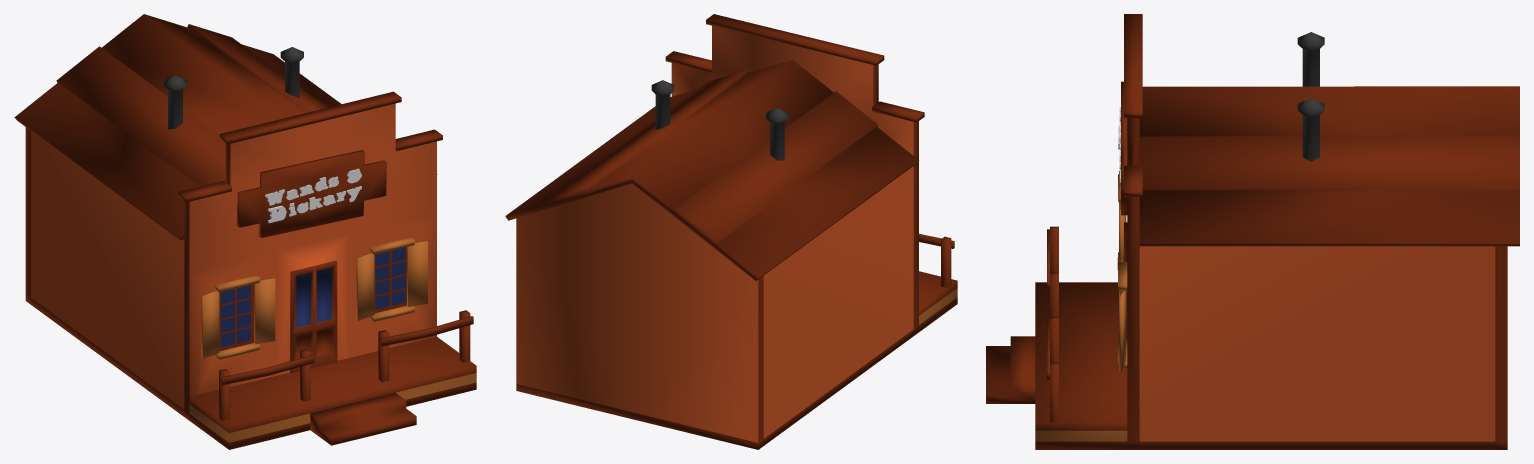
Rendered from Western_Wands&Dickary_Parts.fbx.
The picture shows the model from 3 angles, left to right: view 1: azimuth 30°, elevation 25°; view 2: azimuth 150°, elevation 25°; view 3: azimuth 270°, elevation 25°; orthographic projection. The views are drawn at different scales.
Parts seen in each view (by area): view 1: WesternBuilding_Shop_Wands.Parts.024, WesternBuilding_Shop_Wands.Parts.006, WesternBuilding_Shop_Wands.Parts.002, WesternBuilding_Shop_Wands.Parts.009, WesternBuilding_Shop_Wands.Parts.001, WesternBuilding_Shop_Wands.Parts.007, WesternBuilding_Shop_Wands.Parts.016, WesternBuilding_Shop_Wands.Parts.023, WesternBuilding_Shop_Wands.Parts.018, WesternBuilding_Shop_Wands.Parts.021, WesternBuilding_Shop_Wands.Parts.014, WesternBuilding_Shop_Wands.Parts.012 (+8 smaller); view 2: WesternBuilding_Shop_Wands.Parts.006, WesternBuilding_Shop_Wands.Parts.002, WesternBuilding_Shop_Wands.Parts.024, WesternBuilding_Shop_Wands.Parts.001, WesternBuilding_Shop_Wands.Parts.007, WesternBuilding_Shop_Wands.Parts.003, WesternBuilding_Shop_Wands.Parts.004, WesternBuilding_Shop_Wands.Parts.005, WesternBuilding_Shop_Wands.Parts.008, WesternBuilding_Shop_Wands.Parts.013; view 3: WesternBuilding_Shop_Wands.Parts.006, WesternBuilding_Shop_Wands.Parts.001, WesternBuilding_Shop_Wands.Parts.024, WesternBuilding_Shop_Wands.Parts.007, WesternBuilding_Shop_Wands.Parts.004, WesternBuilding_Shop_Wands.Parts.003, WesternBuilding_Shop_Wands.Parts.009, WesternBuilding_Shop_Wands.Parts.023, WesternBuilding_Shop_Wands.Parts.008, WesternBuilding_Shop_Wands.Parts.015.
Part boxes in pixels (bbox=[...]): WesternBuilding_Shop_Wands.Parts.024: bbox=[184, 103, 476, 449]; WesternBuilding_Shop_Wands.Parts.006: bbox=[25, 127, 184, 416]; WesternBuilding_Shop_Wands.Parts.002: bbox=[14, 14, 284, 240]; WesternBuilding_Shop_Wands.Parts.009: bbox=[237, 150, 386, 237]; WesternBuilding_Shop_Wands.Parts.001: bbox=[144, 14, 437, 174]; WesternBuilding_Shop_Wands.Parts.007: bbox=[219, 91, 401, 144]; WesternBuilding_Shop_Wands.Parts.016: bbox=[254, 277, 275, 343]; WesternBuilding_Shop_Wands.Parts.023: bbox=[407, 240, 427, 306]; WesternBuilding_Shop_Wands.Parts.018: bbox=[201, 290, 219, 358]; WesternBuilding_Shop_Wands.Parts.021: bbox=[356, 252, 374, 320]; WesternBuilding_Shop_Wands.Parts.014: bbox=[380, 316, 473, 346]; WesternBuilding_Shop_Wands.Parts.012: bbox=[221, 355, 313, 385]; WesternBuilding_Shop_Wands.Parts.006: bbox=[516, 166, 913, 449]; WesternBuilding_Shop_Wands.Parts.002: bbox=[632, 60, 919, 280]; WesternBuilding_Shop_Wands.Parts.024: bbox=[671, 25, 957, 335]; WesternBuilding_Shop_Wands.Parts.001: bbox=[505, 60, 791, 220]; WesternBuilding_Shop_Wands.Parts.007: bbox=[706, 14, 884, 65]; WesternBuilding_Shop_Wands.Parts.003: bbox=[766, 108, 788, 160]; WesternBuilding_Shop_Wands.Parts.004: bbox=[651, 80, 674, 129]; WesternBuilding_Shop_Wands.Parts.005: bbox=[872, 101, 924, 122]; WesternBuilding_Shop_Wands.Parts.008: bbox=[665, 51, 711, 71]; WesternBuilding_Shop_Wands.Parts.013: bbox=[941, 236, 951, 287]; WesternBuilding_Shop_Wands.Parts.006: bbox=[1139, 246, 1507, 449]; WesternBuilding_Shop_Wands.Parts.001: bbox=[1139, 86, 1519, 246]; WesternBuilding_Shop_Wands.Parts.024: bbox=[986, 118, 1139, 449]; WesternBuilding_Shop_Wands.Parts.007: bbox=[1124, 14, 1142, 117]; WesternBuilding_Shop_Wands.Parts.004: bbox=[1297, 98, 1324, 161]; WesternBuilding_Shop_Wands.Parts.003: bbox=[1297, 32, 1324, 86]; WesternBuilding_Shop_Wands.Parts.009: bbox=[1118, 81, 1127, 215]; WesternBuilding_Shop_Wands.Parts.023: bbox=[1119, 290, 1126, 370]; WesternBuilding_Shop_Wands.Parts.008: bbox=[1124, 165, 1142, 196]; WesternBuilding_Shop_Wands.Parts.015: bbox=[1050, 362, 1058, 422].
Size of the model in its own units: 566 by 570 by 870.
1 material, 1 textured.
